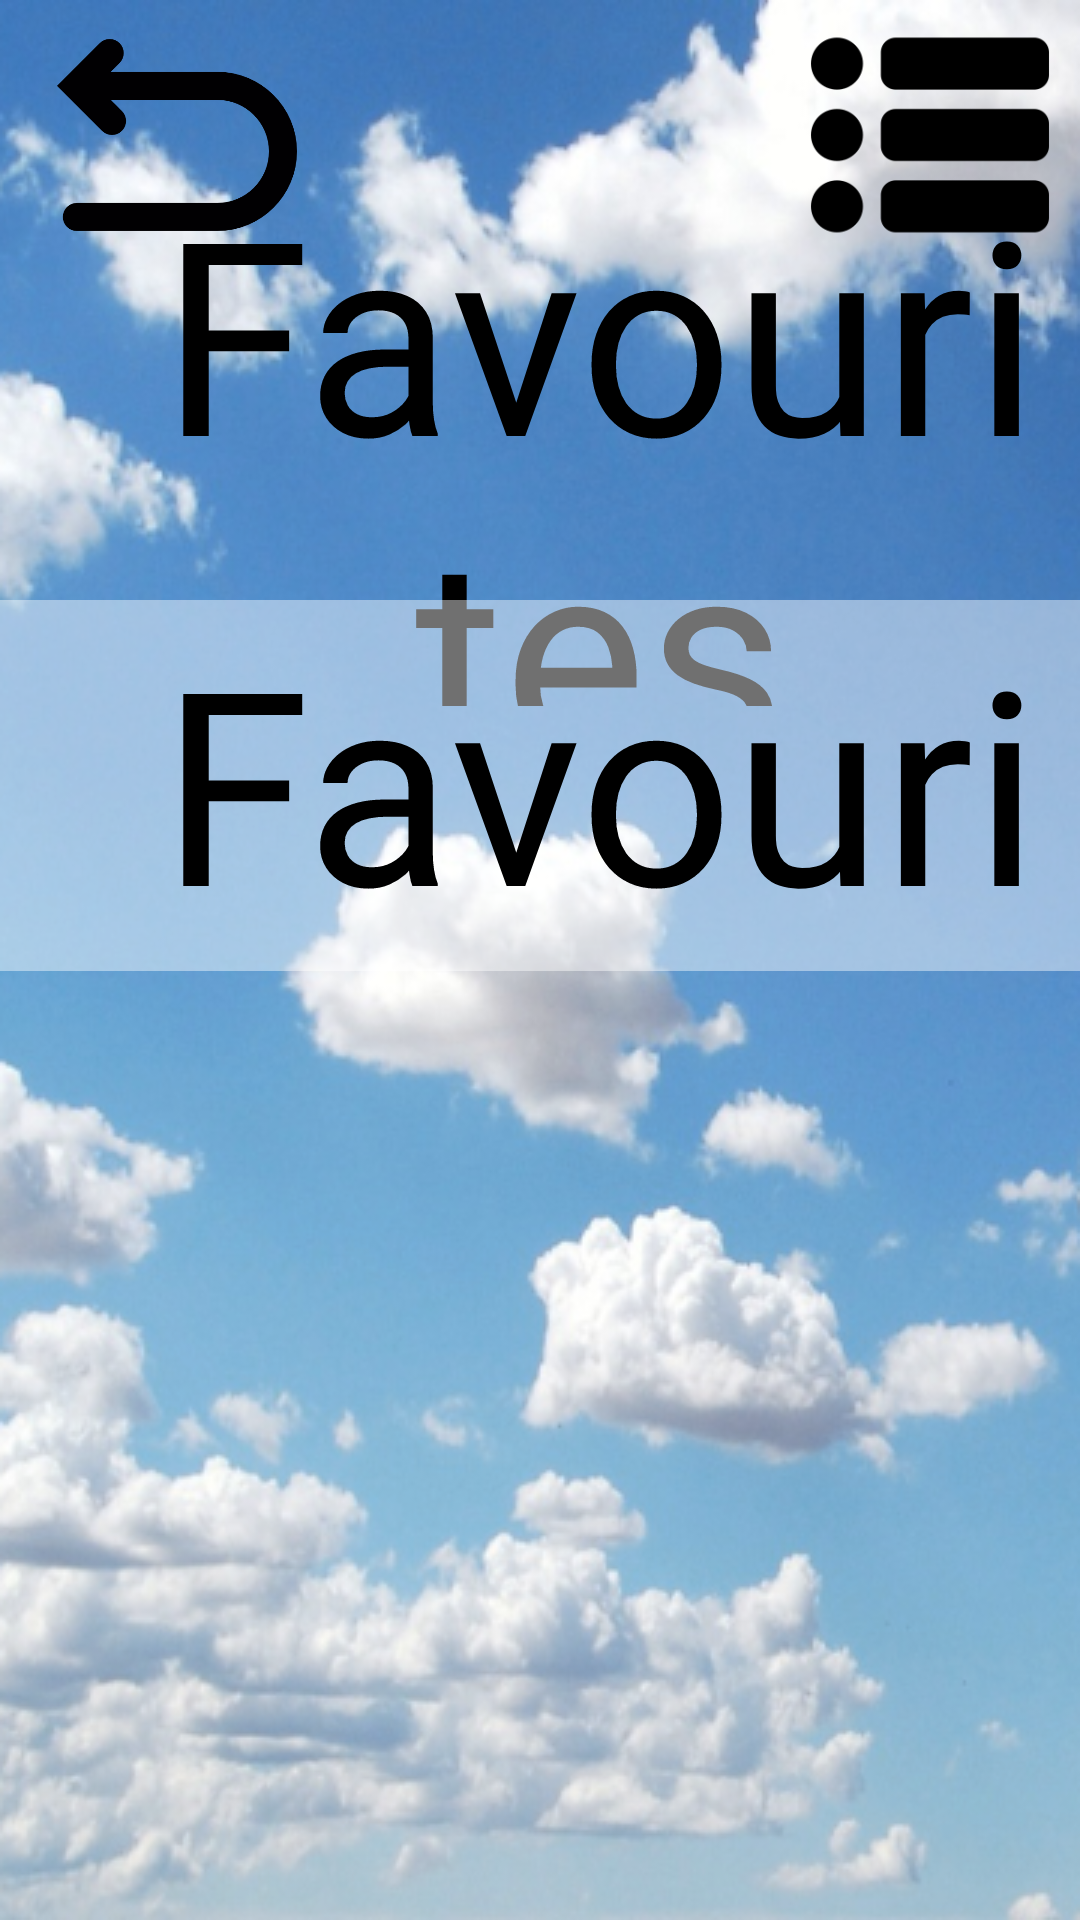

Icons on this 1080w x 1920h Android screen, each with the point to tap as point (x, y):
Menu button: point (930, 135)
Return button image: point (177, 147)
